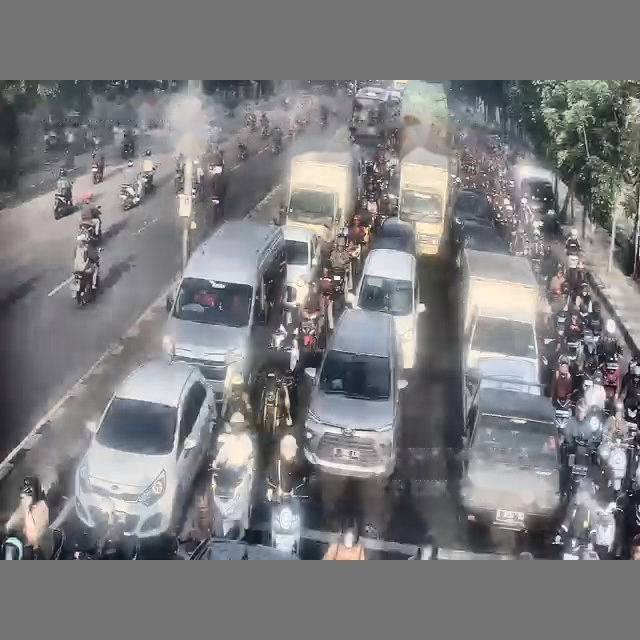Mobil: (75, 359, 215, 538), (304, 309, 407, 478), (460, 372, 565, 531), (282, 225, 320, 303), (189, 538, 298, 559), (370, 217, 415, 255), (461, 220, 507, 253), (520, 178, 555, 213), (452, 189, 491, 219)
Motor: (211, 458, 255, 538), (267, 479, 306, 554), (598, 434, 630, 494), (119, 184, 140, 210), (54, 193, 74, 219), (91, 161, 103, 184), (237, 143, 248, 160)
Truk: (285, 151, 358, 247), (398, 147, 450, 254)
